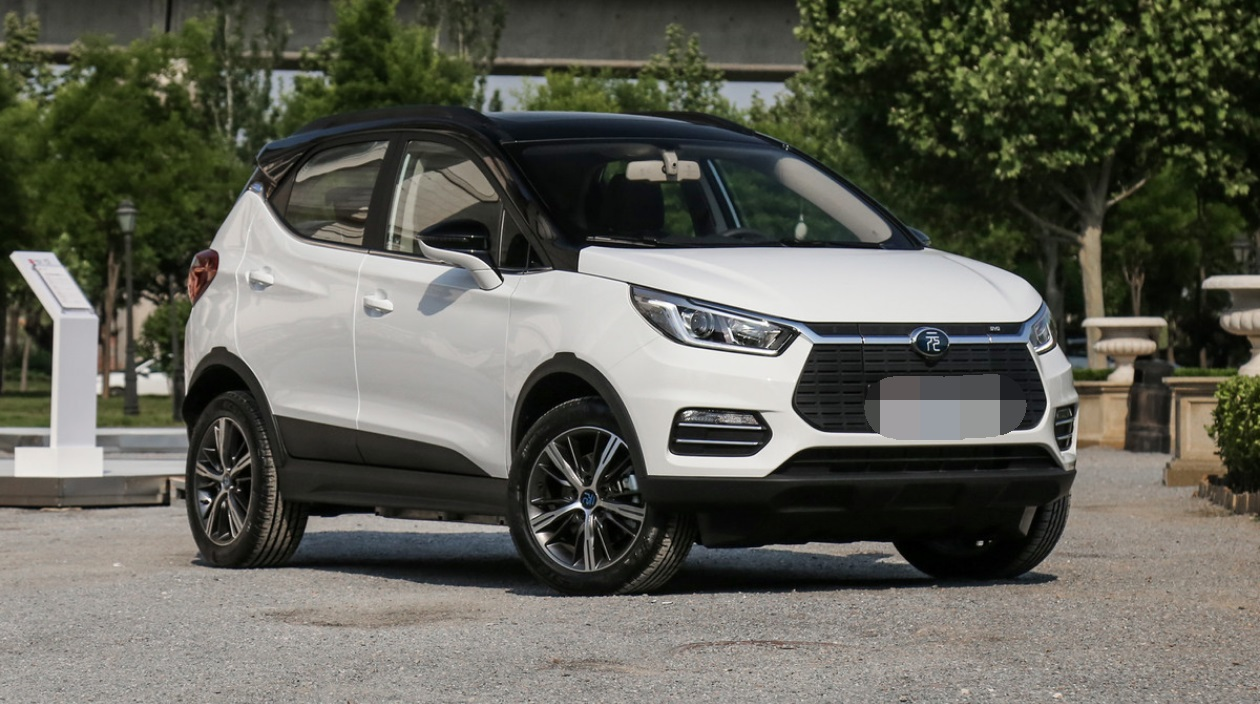SUV: (181, 100, 1089, 596)
